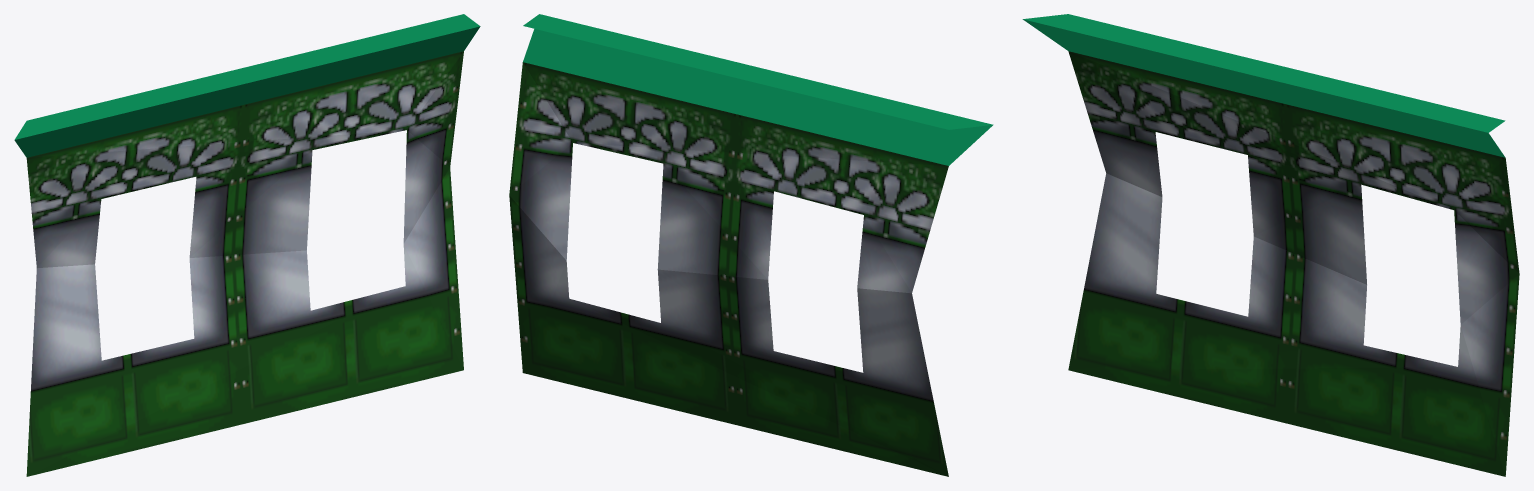
3 renders of one model, left to right at view 1: azimuth 30°, elevation 25°; view 2: azimuth 150°, elevation 25°; view 3: azimuth 330°, elevation 25°, orthographic. The views are drawn at different scales.
Visible parts, largest first — view 1: polySurfaceShape1183, polySurfaceShape1185; view 2: polySurfaceShape1183, polySurfaceShape1185; view 3: polySurfaceShape1183, polySurfaceShape1185.
Boxes of the visible parts, x1,y1,x2,y2 form: polySurfaceShape1183: (26, 51, 463, 476); polySurfaceShape1185: (14, 14, 480, 157); polySurfaceShape1183: (509, 62, 948, 476); polySurfaceShape1185: (523, 14, 993, 165); polySurfaceShape1183: (1068, 51, 1519, 476); polySurfaceShape1185: (1022, 14, 1505, 157).
Size of the model in its own units: 0.5333 by 0.3891 by 0.0607.
Materials: 2 (1 with a texture image).
